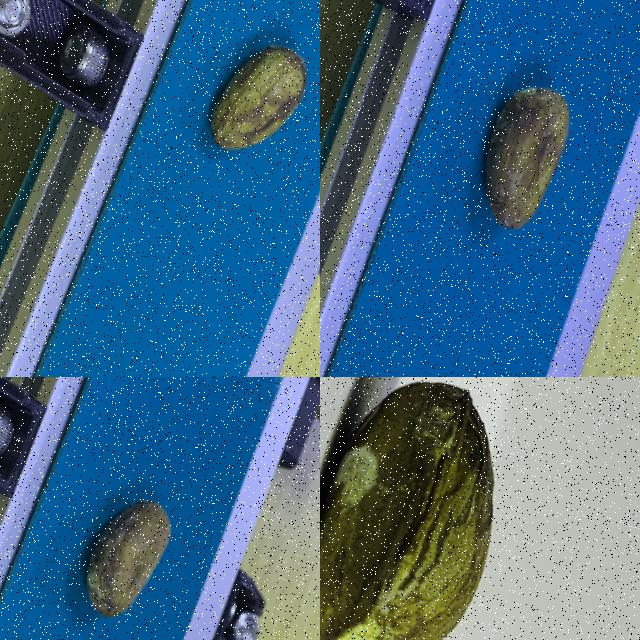Fine_cocoabeans: (372, 0, 639, 359), (320, 377, 639, 639), (0, 395, 241, 639), (119, 0, 319, 258)
